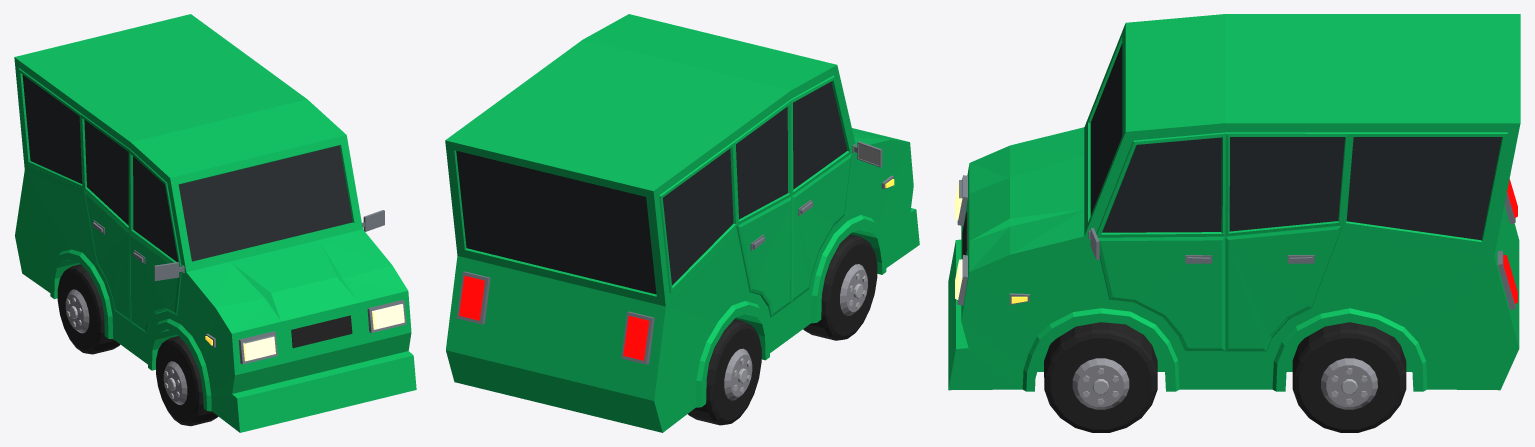
The model's file is SK_Car_03_AsStaticMesh.fbx.
3 renders of one model, left to right at view 1: azimuth 30°, elevation 25°; view 2: azimuth 150°, elevation 25°; view 3: azimuth 270°, elevation 25°, orthographic. The views are drawn at different scales.
Parts seen in each view (by area): view 1: SK_Car_03_AsStaticMesh_LOD0; view 2: SK_Car_03_AsStaticMesh_LOD0; view 3: SK_Car_03_AsStaticMesh_LOD0.
Part boxes in pixels (x1,y1,x2,y2): SK_Car_03_AsStaticMesh_LOD0: (14, 14, 416, 432); SK_Car_03_AsStaticMesh_LOD0: (445, 14, 919, 432); SK_Car_03_AsStaticMesh_LOD0: (948, 14, 1520, 432).
Bounding box in the file's own units: 198 × 337 × 201.
1 material, 1 textured.
